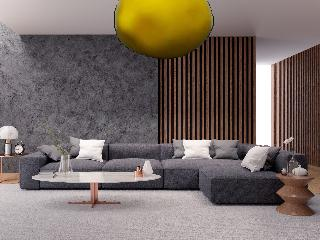lemon: (114, 0, 214, 60)
